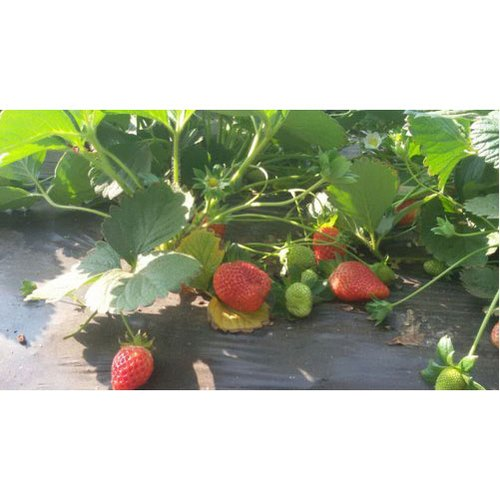ripe: (208, 255, 275, 312), (324, 257, 390, 303), (106, 339, 156, 391), (308, 225, 349, 261), (393, 197, 420, 227), (195, 213, 229, 236)
unripe: (281, 281, 313, 320), (433, 364, 471, 391), (284, 242, 317, 271), (300, 266, 319, 286)
